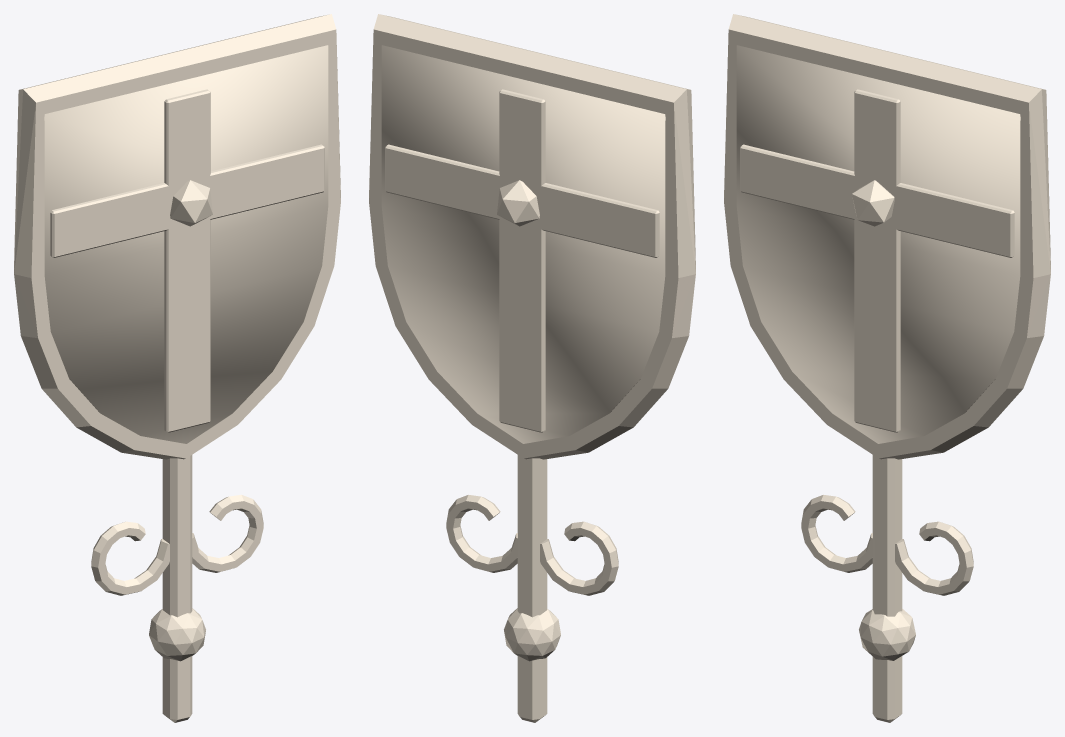
File: SM_VK_Emblem_Ridge_Shield.fbx
The picture shows the model from 3 angles, left to right: view 1: azimuth 30°, elevation 25°; view 2: azimuth 150°, elevation 25°; view 3: azimuth 330°, elevation 25°; orthographic projection.
Parts seen in each view (by area): view 1: SM_VK_Emblem_Ridge_Shield.001; view 2: SM_VK_Emblem_Ridge_Shield.001; view 3: SM_VK_Emblem_Ridge_Shield.001.
Part boxes in pixels (x1,y1,x2,y2): SM_VK_Emblem_Ridge_Shield.001: (14,14,340,722); SM_VK_Emblem_Ridge_Shield.001: (369,14,695,722); SM_VK_Emblem_Ridge_Shield.001: (724,14,1050,722).
Size of the model in its own units: 1.03 by 2.01 by 0.2591.
